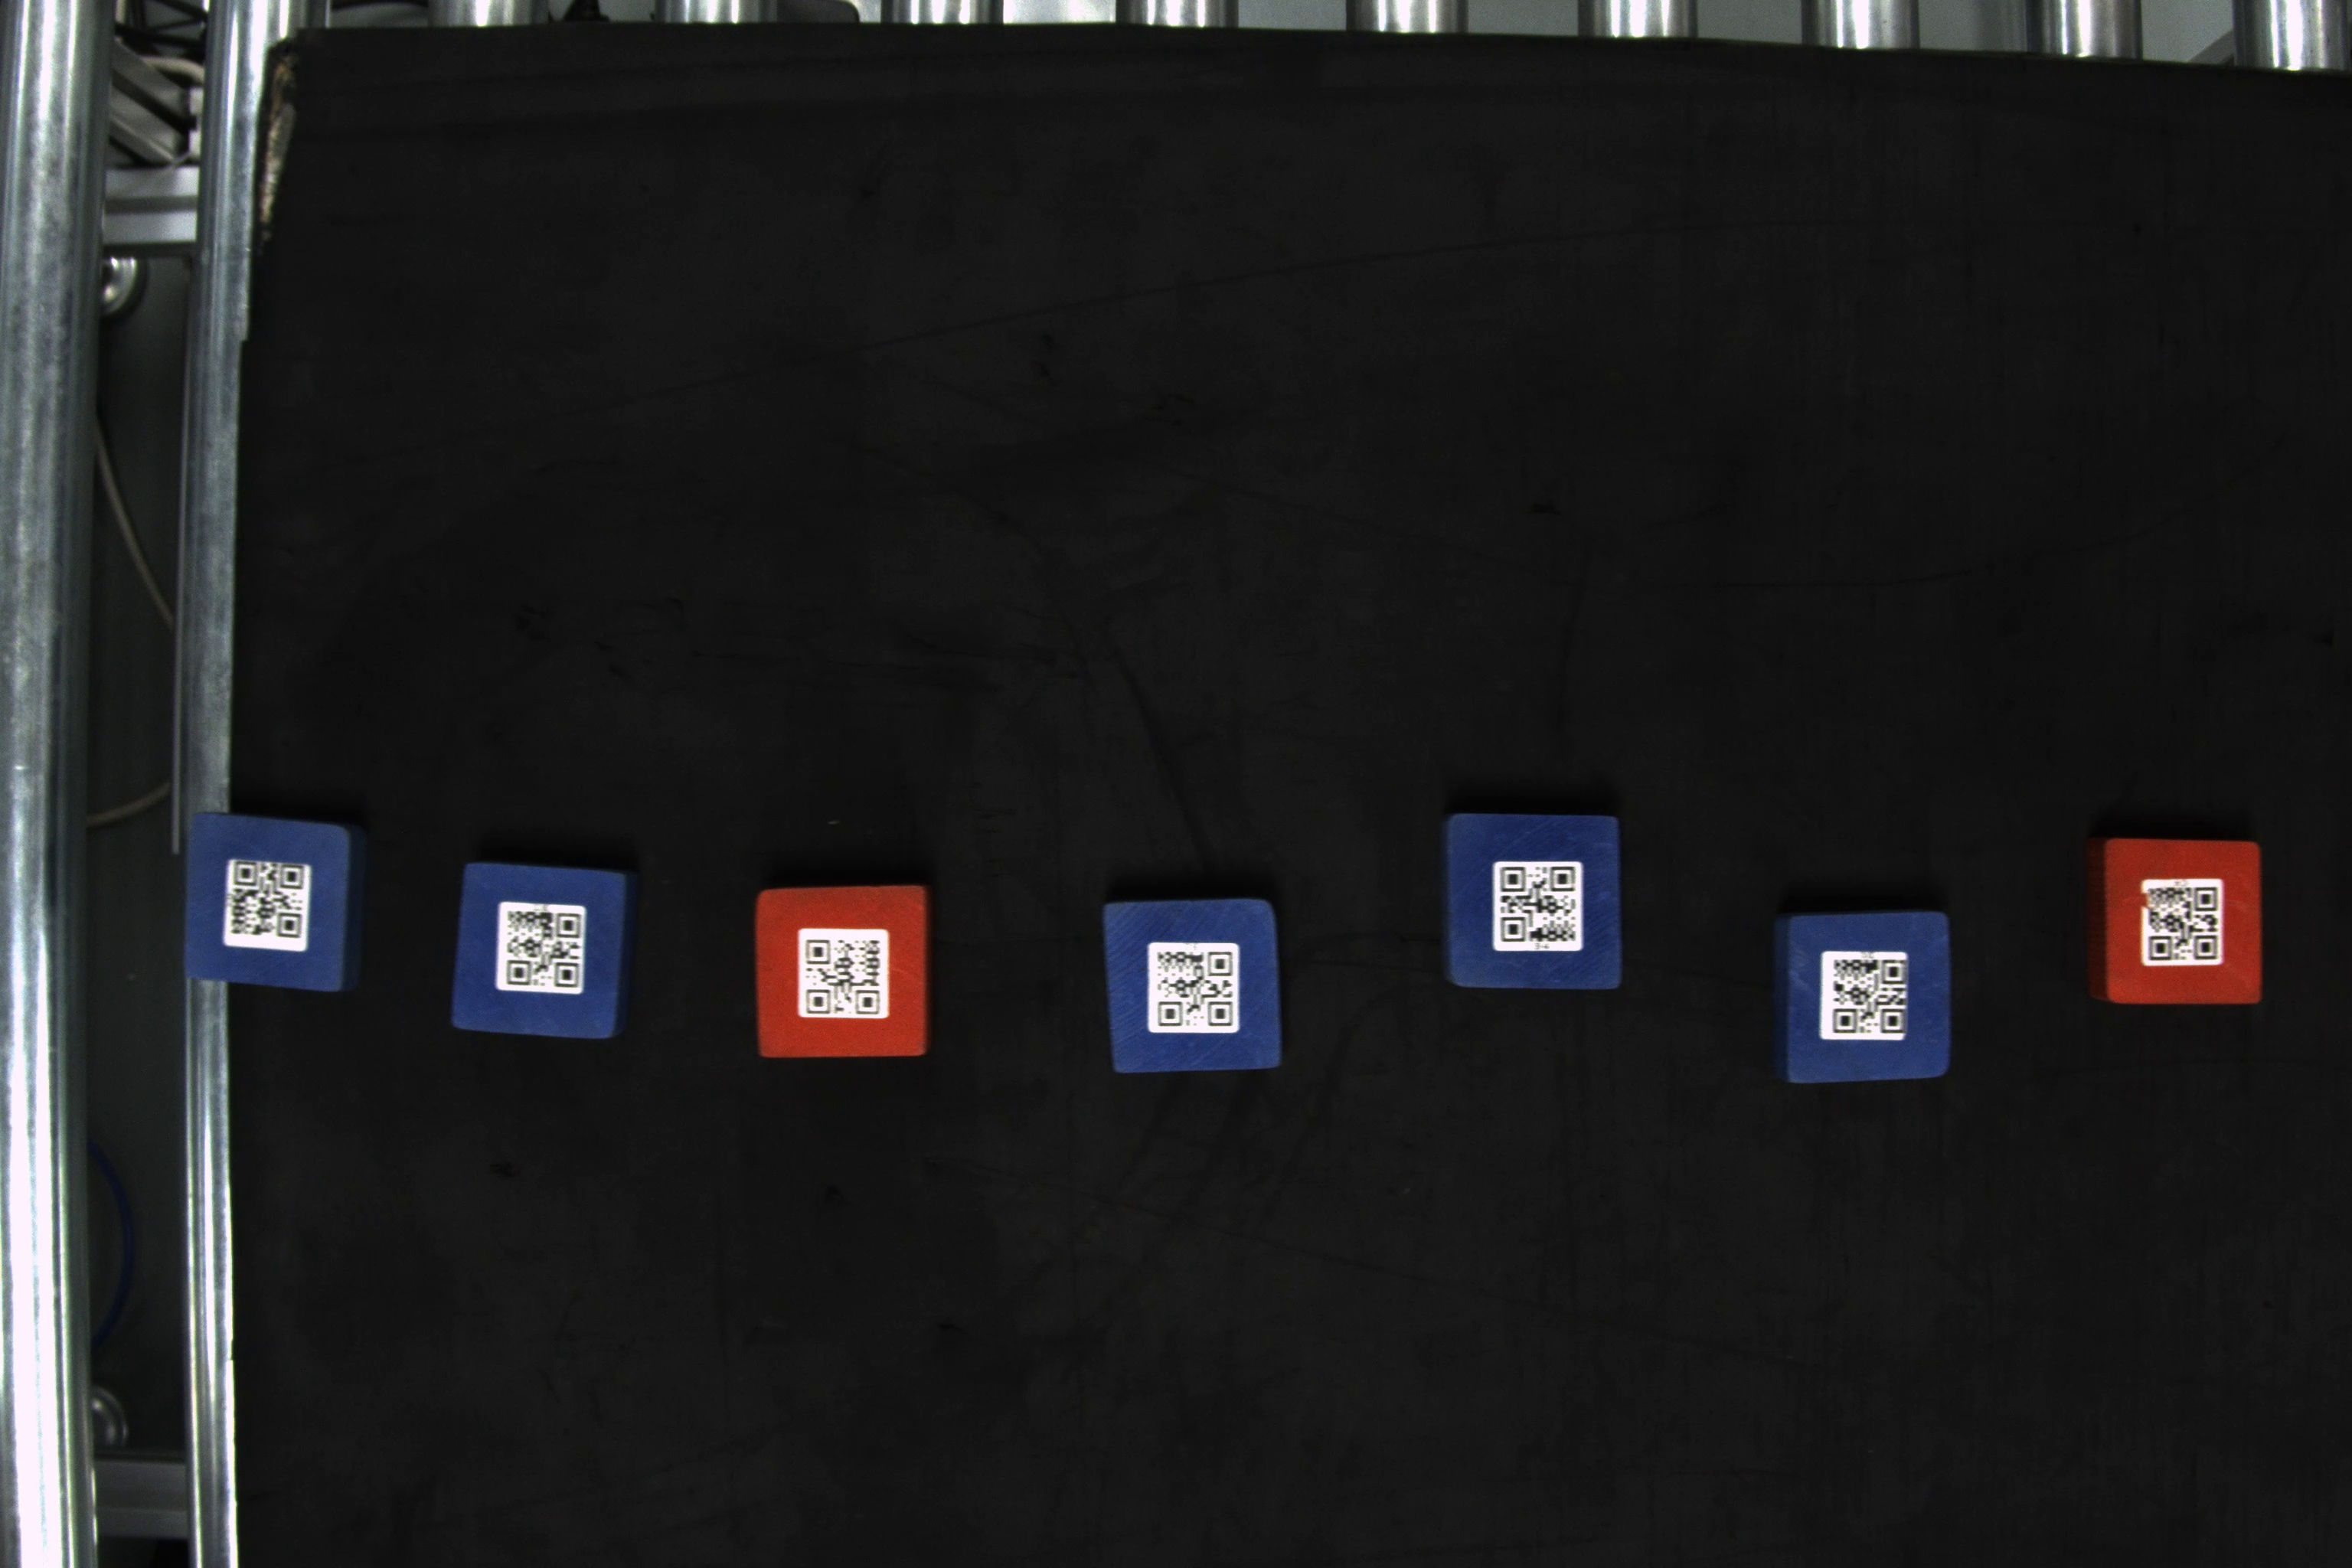wood: (451, 852, 640, 1039), (1769, 912, 1963, 1088), (187, 808, 367, 997), (1440, 814, 1626, 994), (1102, 899, 1290, 1078), (745, 882, 933, 1059), (2091, 835, 2268, 1004)
